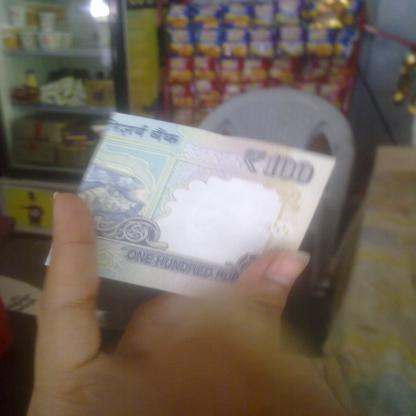Old100Back: (44, 110, 338, 301)
